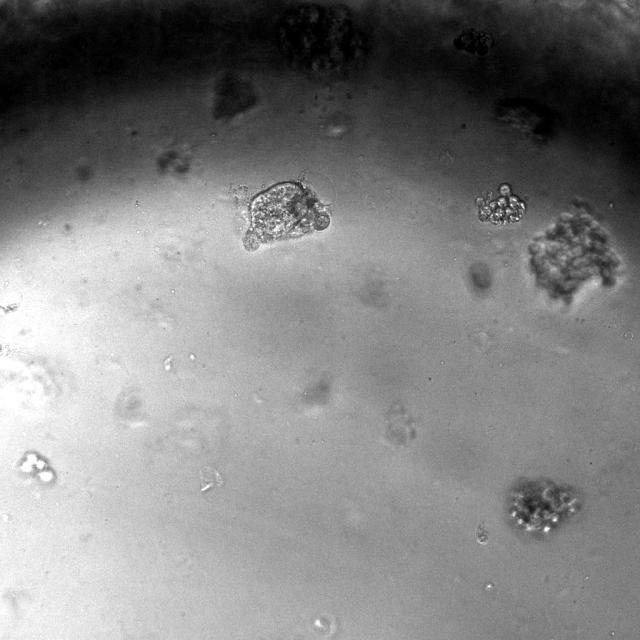organoid: (528, 200, 621, 303), (242, 181, 330, 250), (508, 478, 580, 534), (474, 183, 525, 227), (18, 451, 56, 485)
